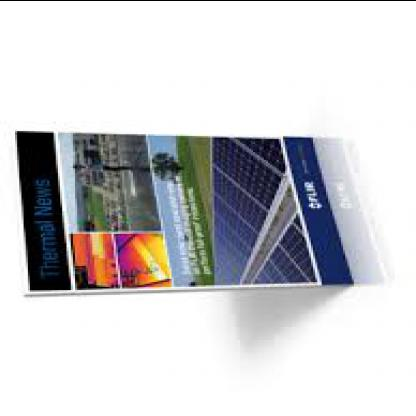Defects: (147, 260, 168, 281), (90, 235, 103, 256)
